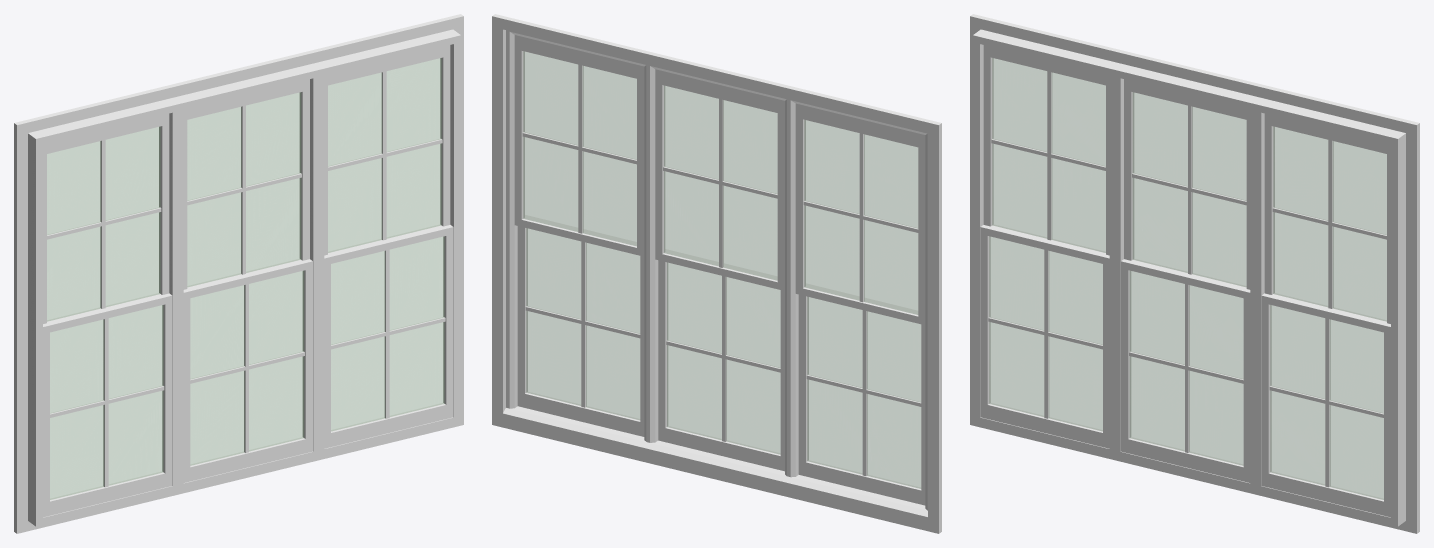
File: Window.dae
The picture shows the model from 3 angles, left to right: view 1: azimuth 30°, elevation 25°; view 2: azimuth 150°, elevation 25°; view 3: azimuth 330°, elevation 25°; orthographic projection.
Visible parts, largest first — view 1: Component_23 (×36), Double-hung_window_69_in._x_58_in._triple_row_with_mullions (×2); view 2: Component_23 (×36), Double-hung_window_69_in._x_58_in._triple_row_with_mullions (×2); view 3: Component_23 (×36), Double-hung_window_69_in._x_58_in._triple_row_with_mullions (×2).
Part boxes in pixels (x1,y1,x2,y2): Component_23 (×36): [43, 45, 453, 517]; Double-hung_window_69_in._x_58_in._triple_row_with_mullions (×2): [14, 14, 463, 533]; Component_23 (×36): [514, 35, 925, 505]; Double-hung_window_69_in._x_58_in._triple_row_with_mullions (×2): [492, 14, 941, 533]; Component_23 (×36): [980, 45, 1390, 517]; Double-hung_window_69_in._x_58_in._triple_row_with_mullions (×2): [970, 14, 1419, 533].
Size of the model in its own units: 204 by 8.7 by 178.
